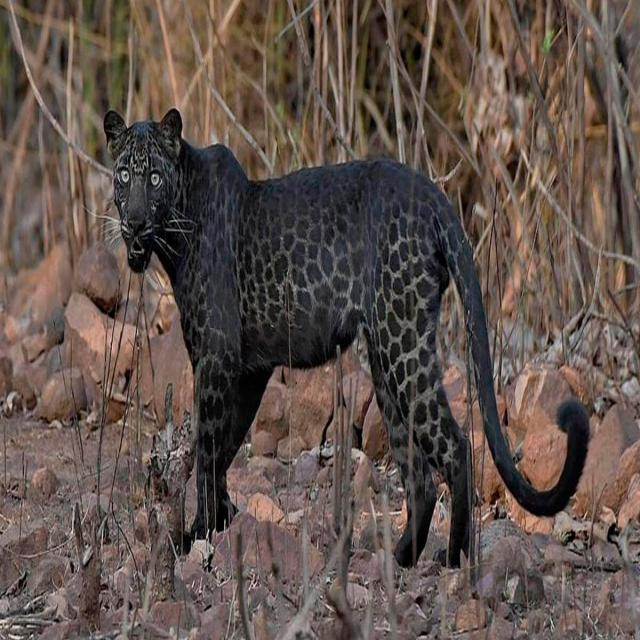Leopard: (103, 110, 589, 576)
